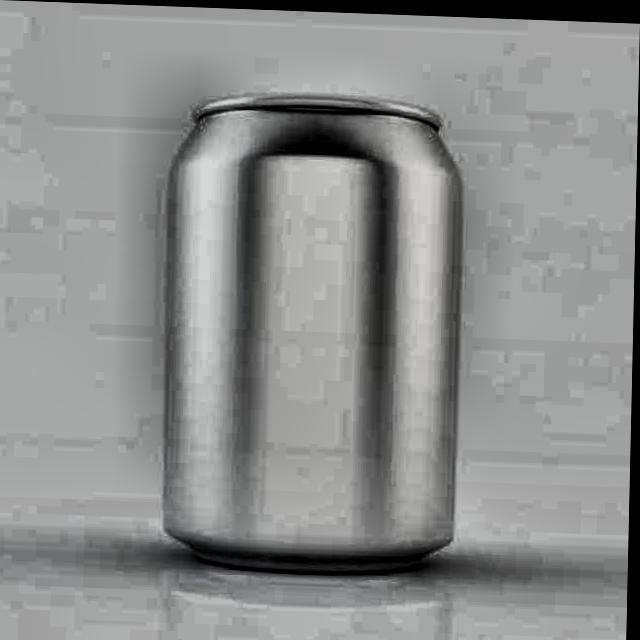can: (157, 80, 481, 588)
